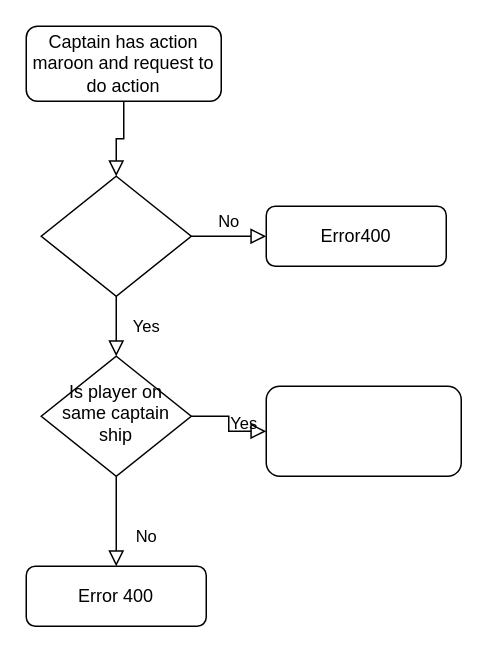
This 488x653 diagram has some shape labels left out. The shapes that lost their labels are listed below. From the top down, each one's centre as x and y in pixels, then its label:
At point 115,235: "Is player captain".
At point 363,430: "Player gets move to tortuga on next game status".
